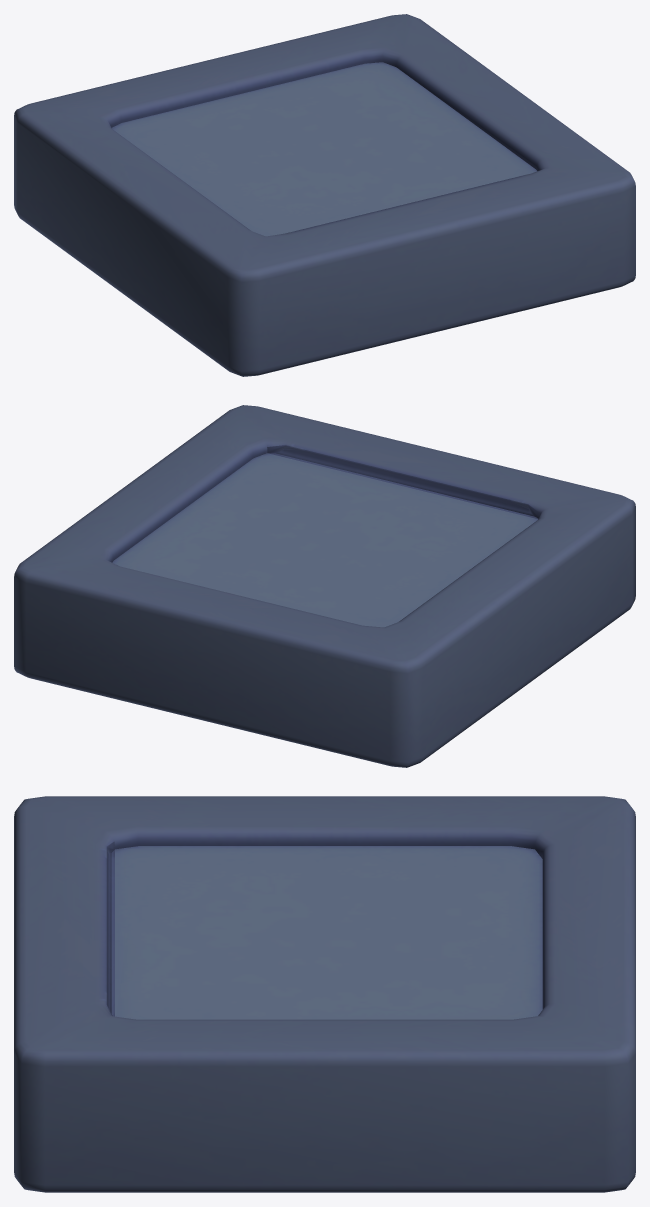
File: Town_Poison_Scaffolding_Cube.fbx
The picture shows the model from 3 angles, top to bottom: view 1: azimuth 30°, elevation 25°; view 2: azimuth 150°, elevation 25°; view 3: azimuth 270°, elevation 25°; orthographic projection. The views are drawn at different scales.
Parts seen in each view (by area): view 1: Town_Poison_Scaffolding_Cube; view 2: Town_Poison_Scaffolding_Cube; view 3: Town_Poison_Scaffolding_Cube.
Boxes of the visible parts, x1,y1,x2,y2 form: Town_Poison_Scaffolding_Cube: (14,14,635,376); Town_Poison_Scaffolding_Cube: (14,405,635,767); Town_Poison_Scaffolding_Cube: (14,796,635,1192).
Size of the model in its own units: 145 by 36.15 by 145.
